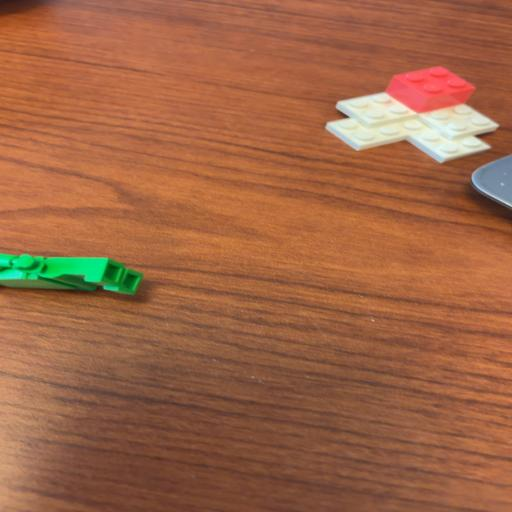UnoQ-minifig-detector: (0, 254, 143, 295)
